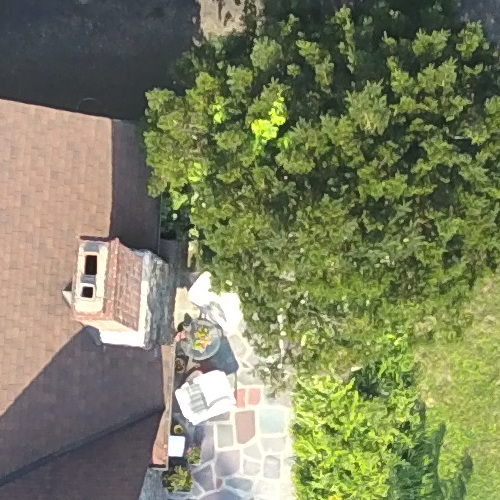container: (168, 358, 186, 376), (170, 422, 185, 440)
